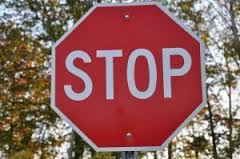stop_sign: (52, 4, 205, 151)
